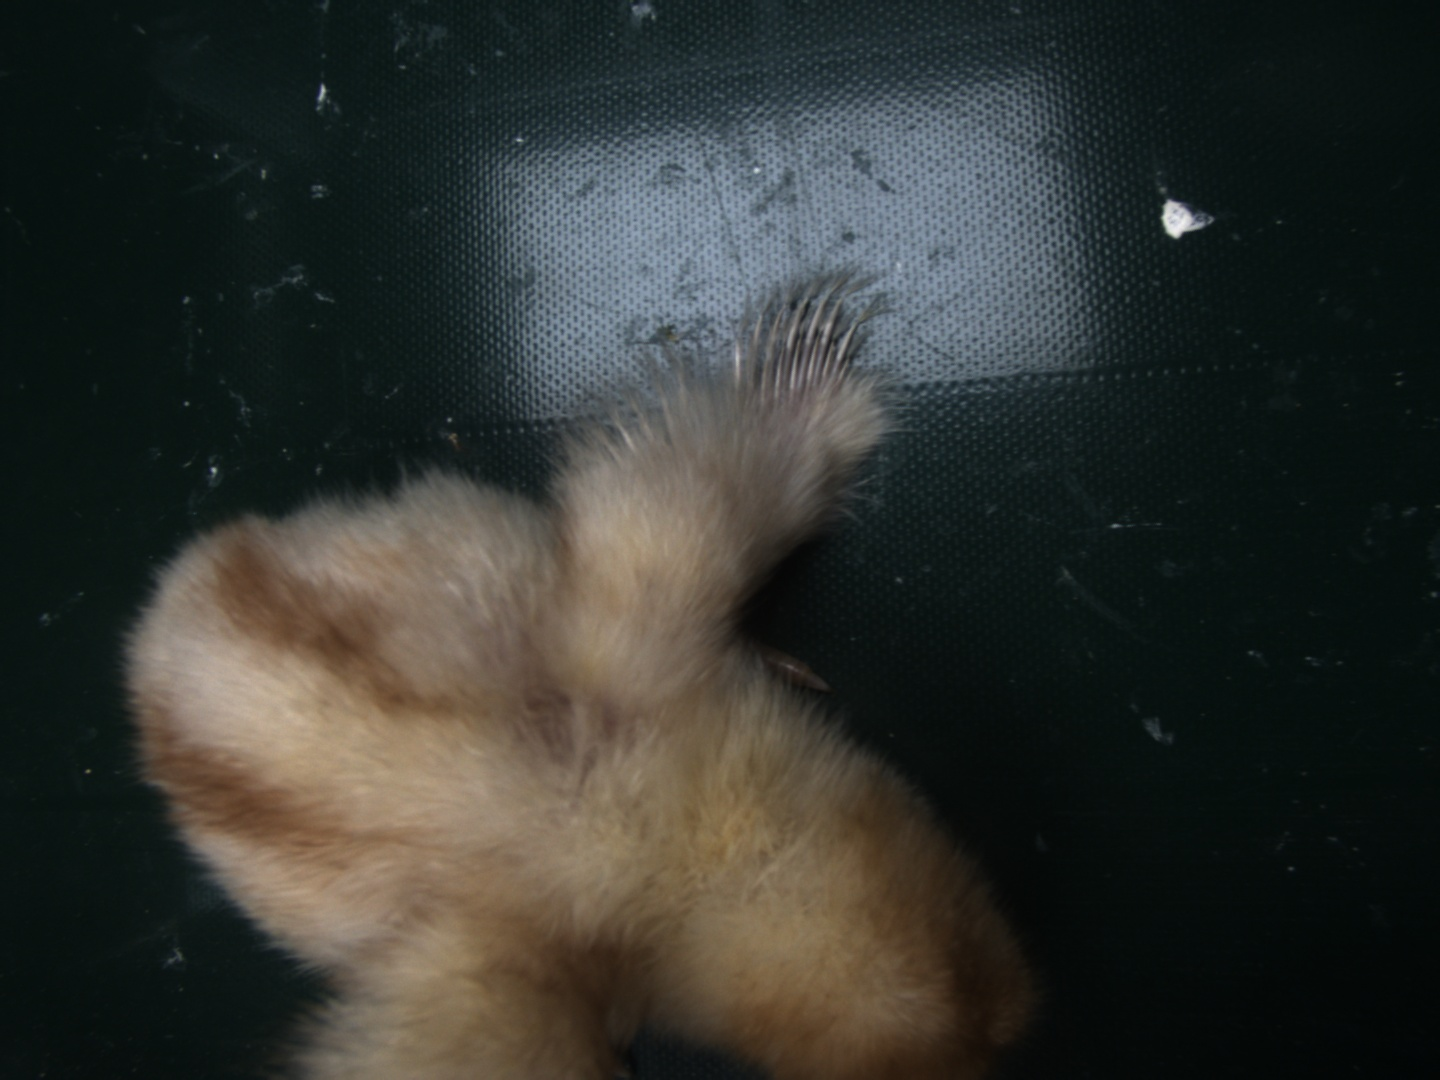female: (728, 293, 866, 416)
